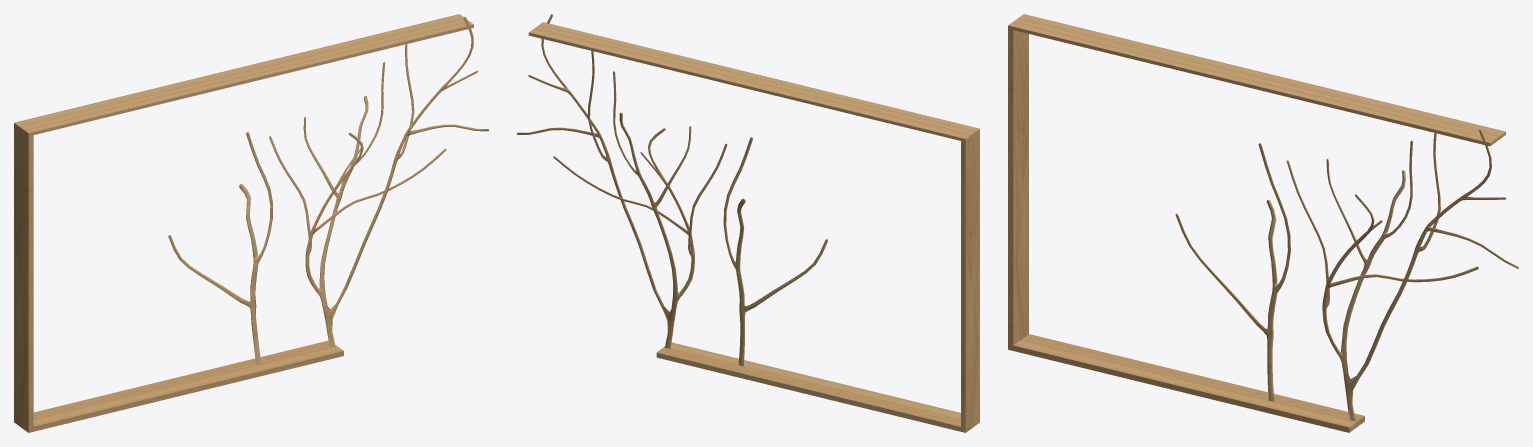
File: 5picture_w40_h30_d2_4.02MB.glb
The picture shows the model from 3 angles, left to right: view 1: azimuth 30°, elevation 25°; view 2: azimuth 150°, elevation 25°; view 3: azimuth 330°, elevation 25°; orthographic projection. The views are drawn at different scales.
Visible parts, largest first — view 1: root; view 2: root; view 3: root.
Boxes of the visible parts, x1,y1,x2,y2 form: root: [14, 14, 488, 432]; root: [517, 14, 979, 432]; root: [1008, 14, 1518, 432].
Bounding box in the file's own units: 0.3698 × 0.235 × 0.02.
Materials: 1 (1 with a texture image).
